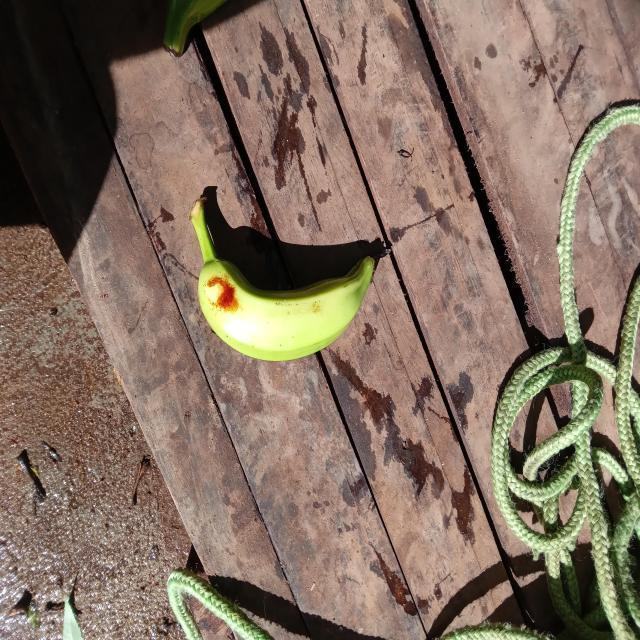Banana: (188, 185, 392, 362)
